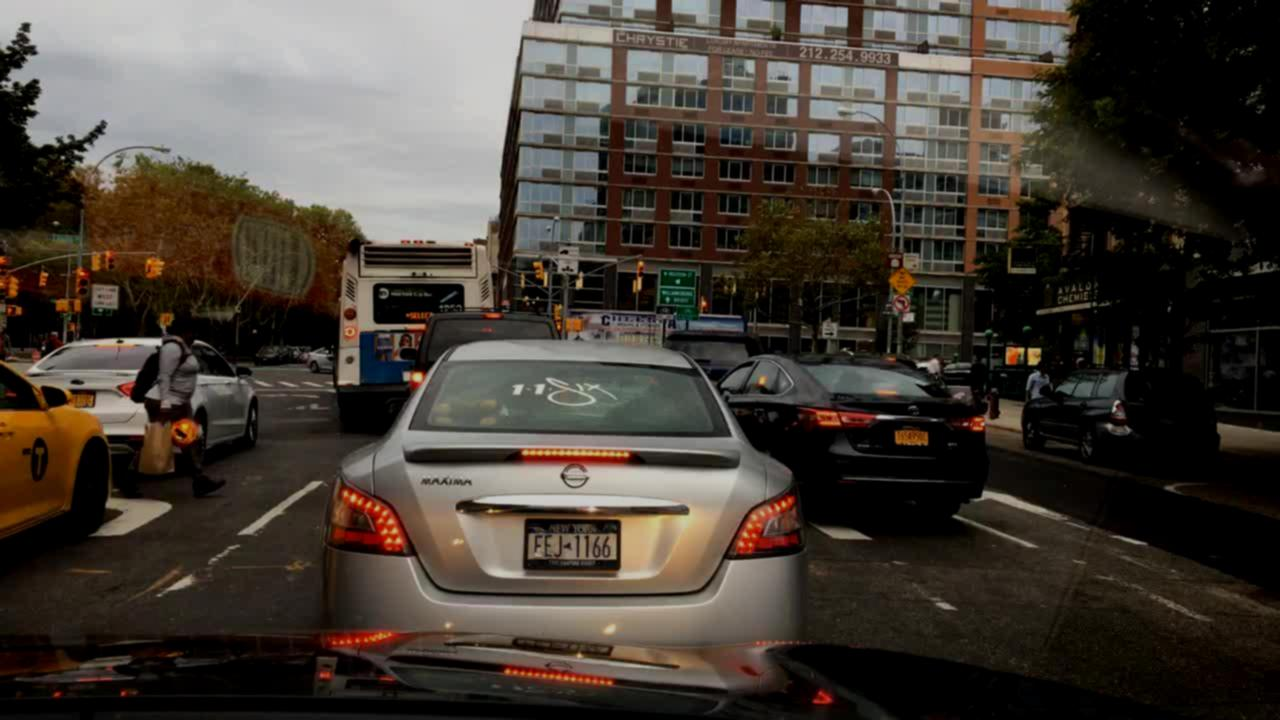Nissan: (544, 440, 604, 512)
